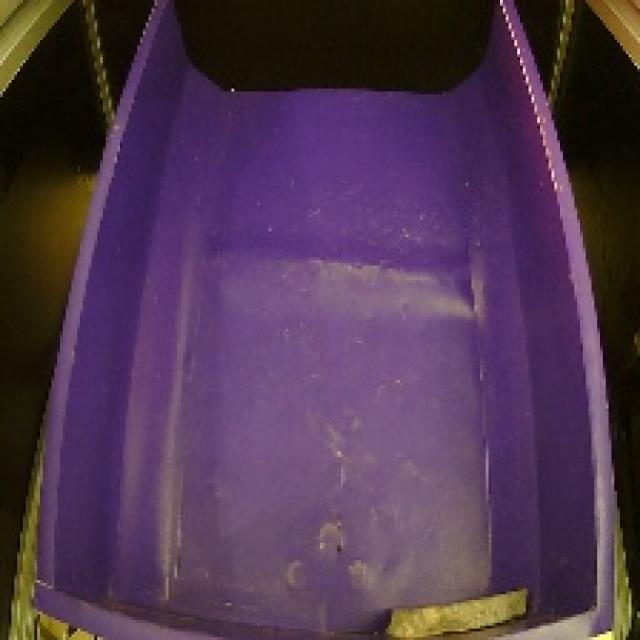china: (364, 571, 537, 640)
